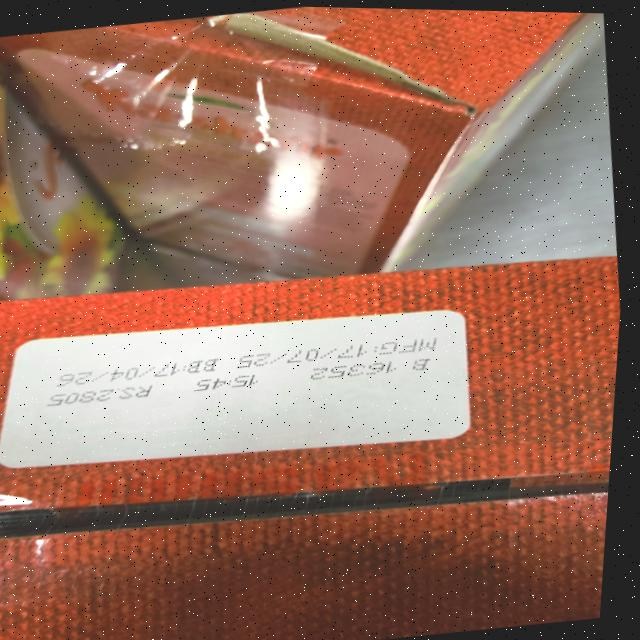BB: (56, 353, 219, 391)
Batch: (302, 353, 433, 385)
MFG: (239, 331, 439, 373)
RS: (43, 382, 156, 410)
TimeStamp: (191, 372, 262, 393)
